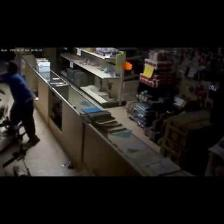person: (0, 61, 39, 147)
